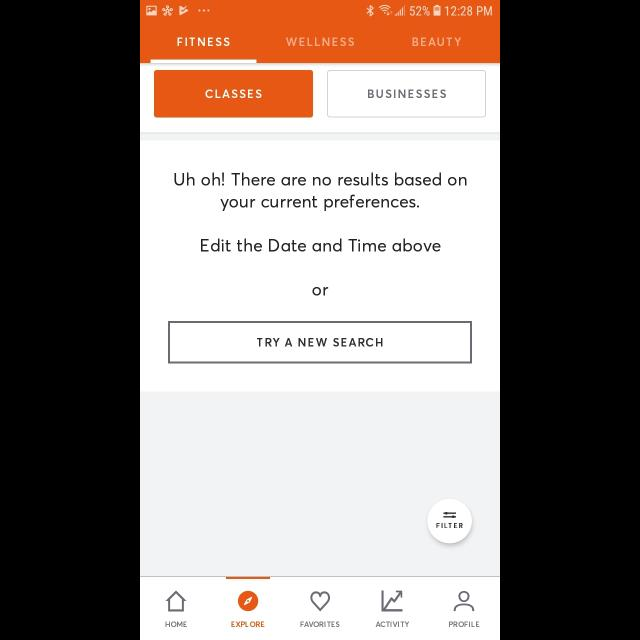icon: (166, 590, 187, 612), (382, 590, 402, 612), (239, 591, 259, 611), (310, 592, 330, 612), (454, 591, 474, 611)
text: (175, 172, 467, 212), (201, 238, 441, 252), (286, 38, 354, 46), (178, 38, 230, 46), (412, 38, 462, 46), (300, 621, 340, 627), (376, 621, 409, 627), (232, 621, 264, 627), (448, 621, 479, 627), (313, 286, 329, 296), (165, 621, 187, 627)
textbutton: (168, 321, 472, 364), (326, 70, 486, 118), (154, 70, 314, 118), (428, 498, 472, 544)
uppertaskbar: (140, 1, 500, 17)
